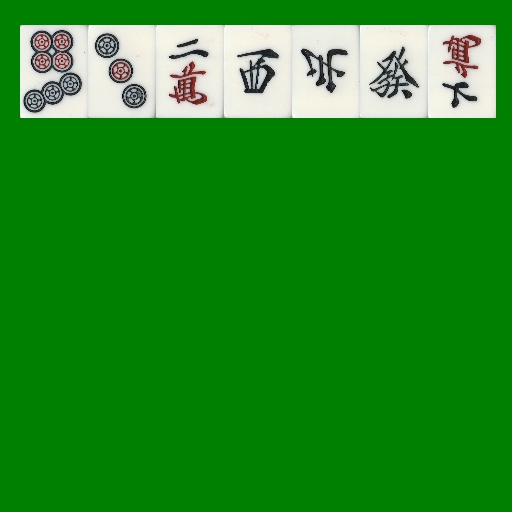2m: (156, 25, 224, 118)
3p: (88, 25, 156, 118)
7m: (428, 25, 496, 118)
7p: (20, 25, 88, 118)
hatsu: (360, 25, 428, 118)
north: (292, 25, 360, 118)
west: (224, 25, 292, 118)
